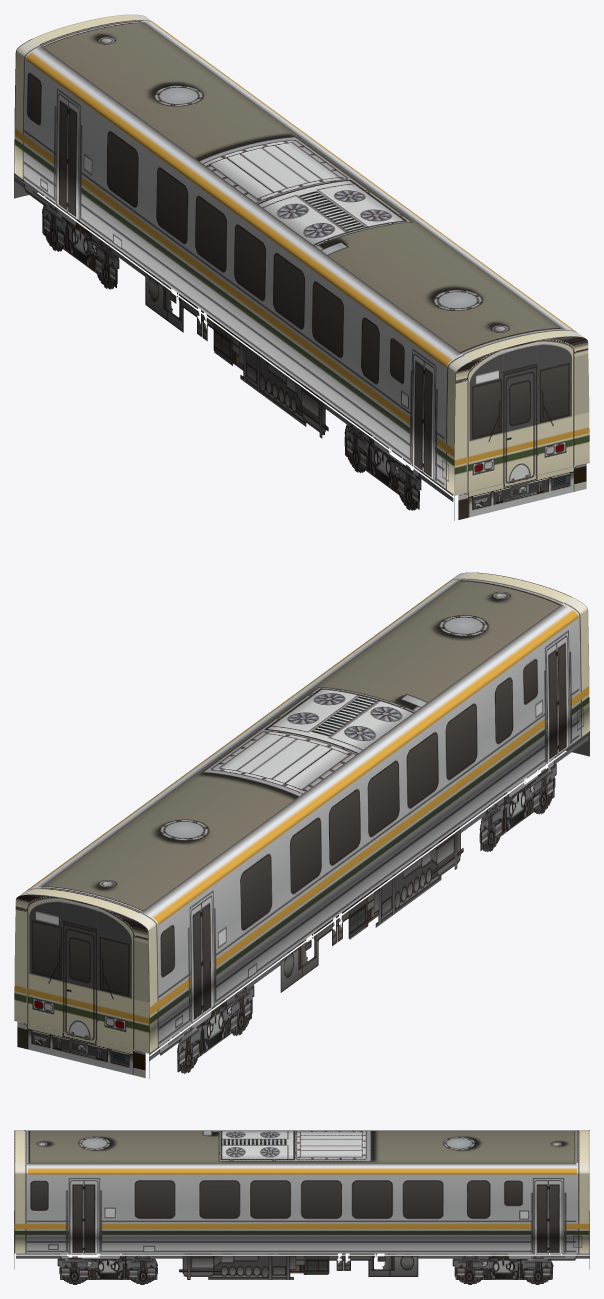
The model's file is car1.glb.
3 views of the same model, one above another, from view 1: azimuth 30°, elevation 25°; view 2: azimuth 150°, elevation 25°; view 3: azimuth 270°, elevation 25° (orthographic). The views are drawn at different scales.
Visible parts, largest first — view 1: kiha120-car1; view 2: kiha120-car1; view 3: kiha120-car1.
Boxes of the visible parts, box(x1,y1,x2,y2) form: kiha120-car1: box(14, 14, 589, 520); kiha120-car1: box(14, 572, 589, 1078); kiha120-car1: box(14, 1130, 589, 1284).
Size of the model in its own units: 2.8 by 3.62 by 15.83.
8 materials, 7 textured.
